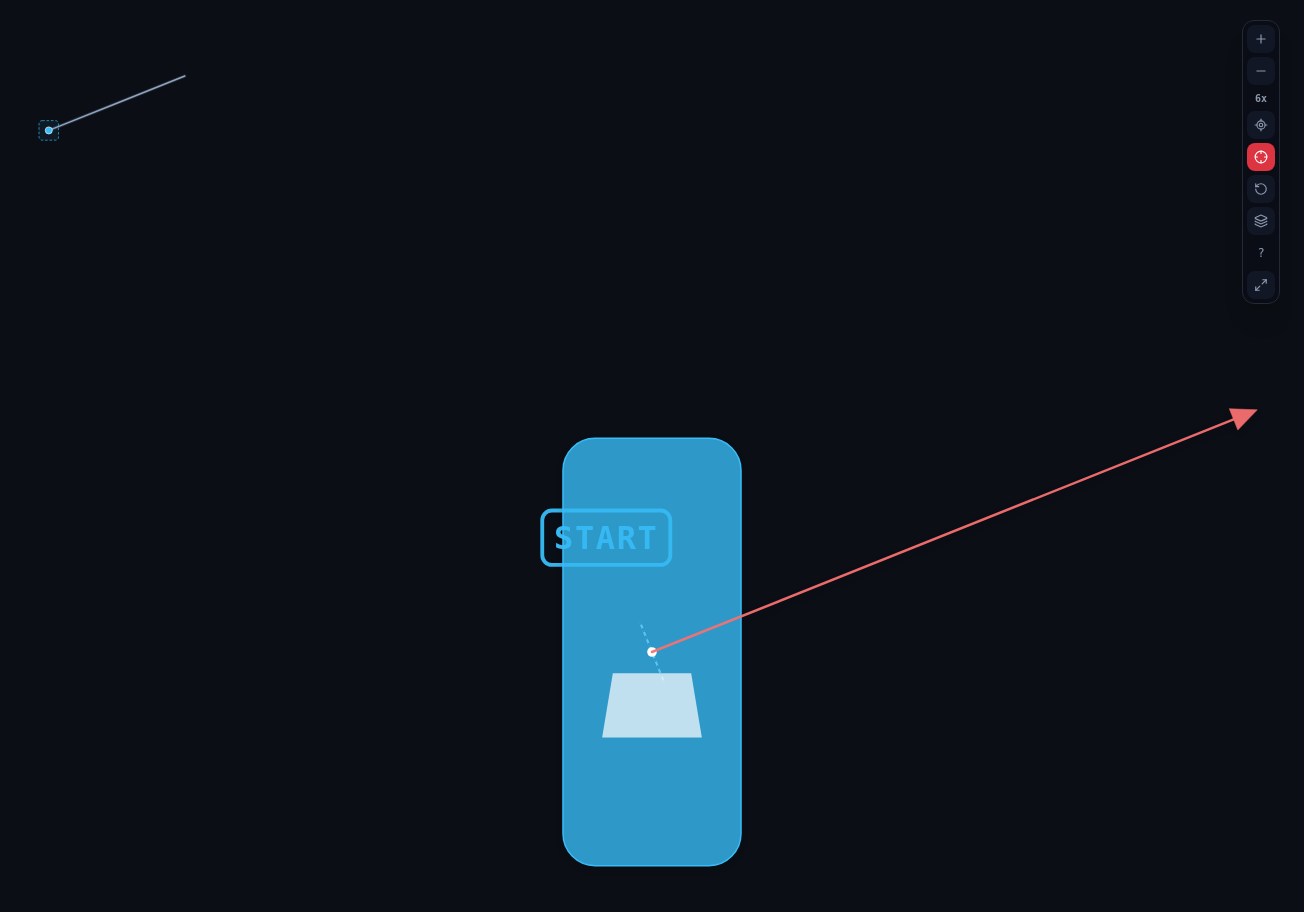
Test: GPS map display layers › switches apron, gravel and grass with runoff and keys their colours
This screenshot has width=1304, height=912.
Click the button named "Layers": [1261, 221] box [1247,207,1275,235]
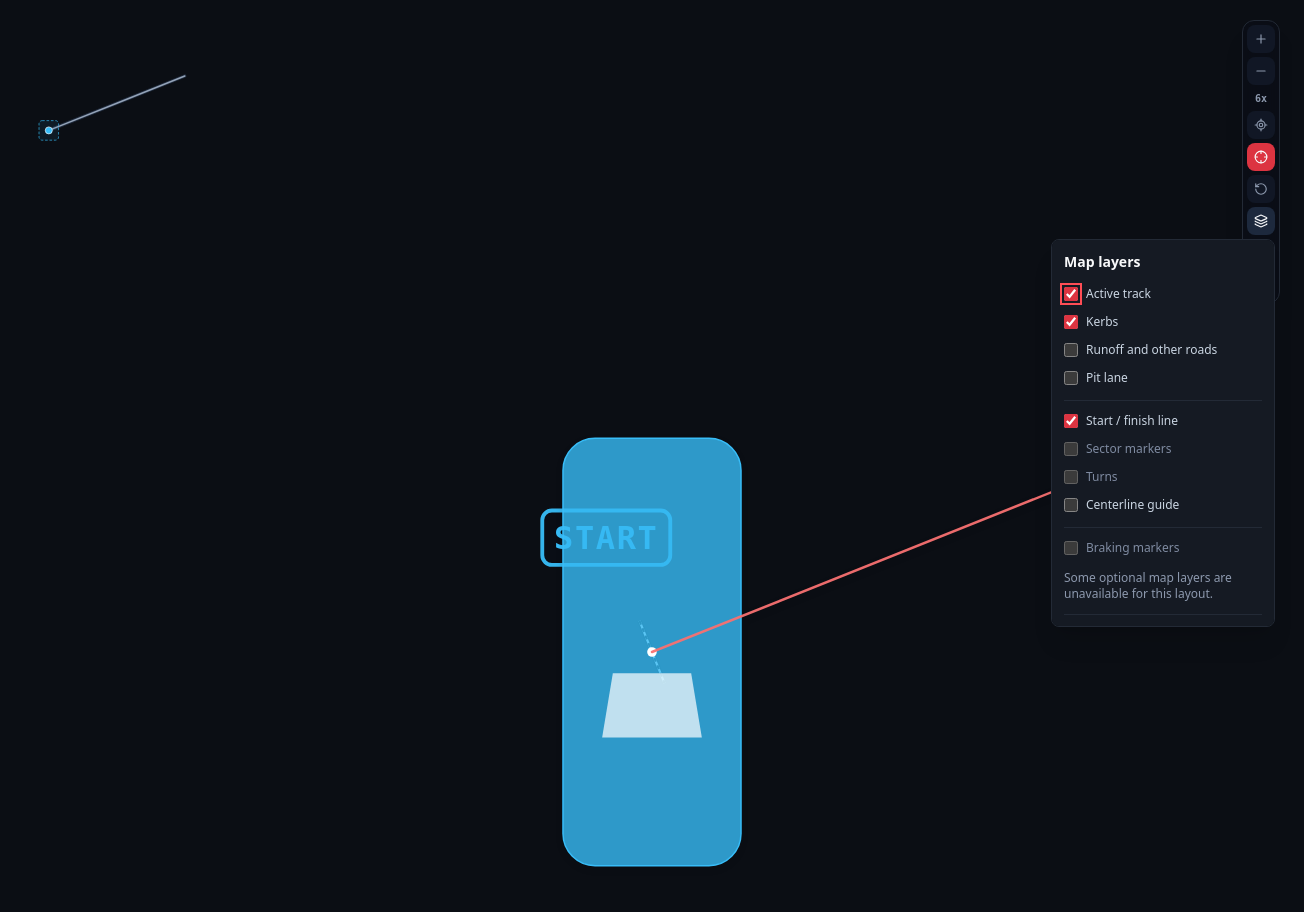
Click the checkbox labelled "Runoff and other roads": [1071, 350] box [1064,343,1078,357]
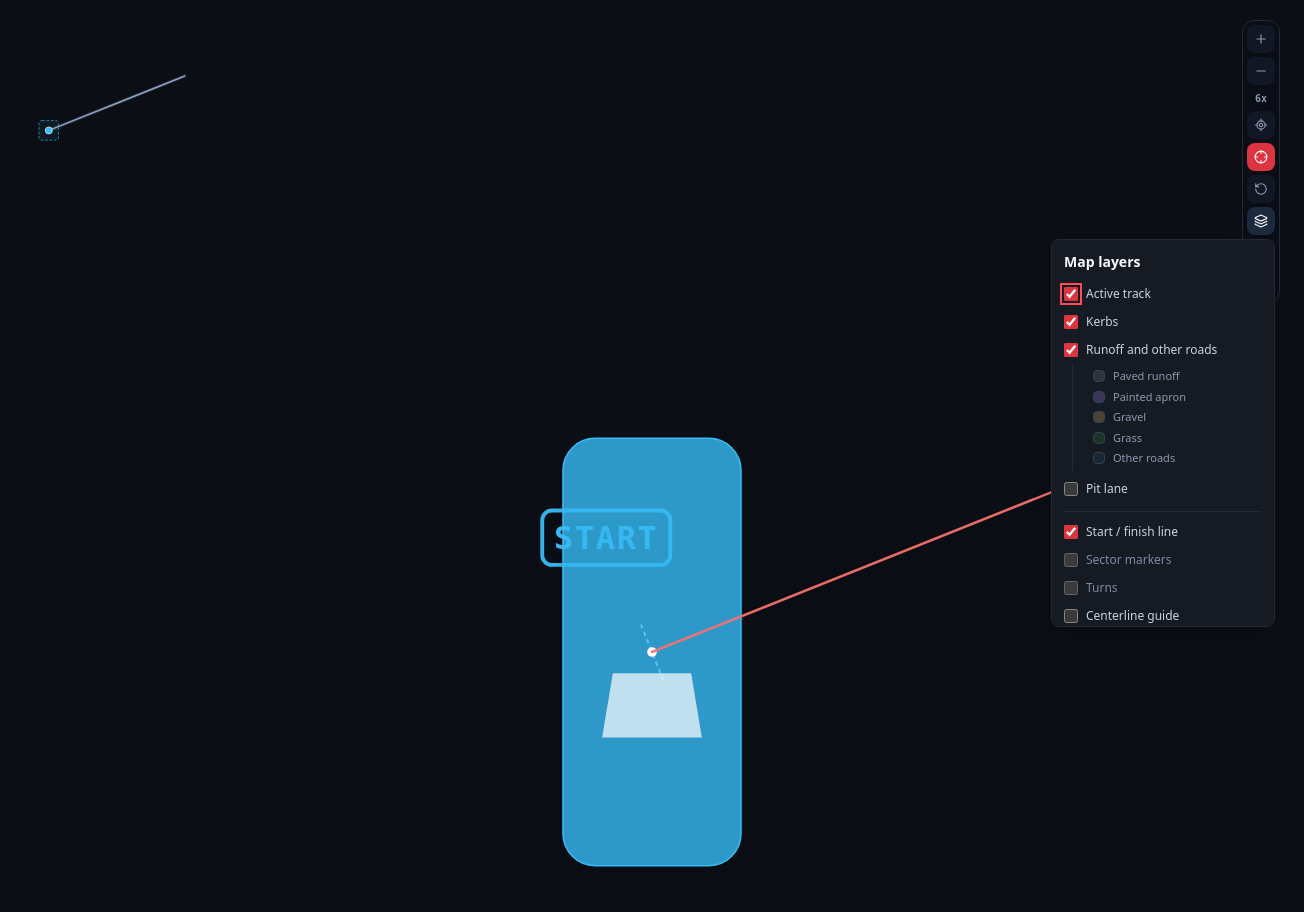
Check: the list items read "Paved runoff", "Painted apron", "Gravel", "Grass", "Other roads", in this order, box [1093,368,1180,383]; [1093,388,1186,404]; [1093,409,1146,424]; [1093,430,1142,444]; [1093,450,1175,465]
